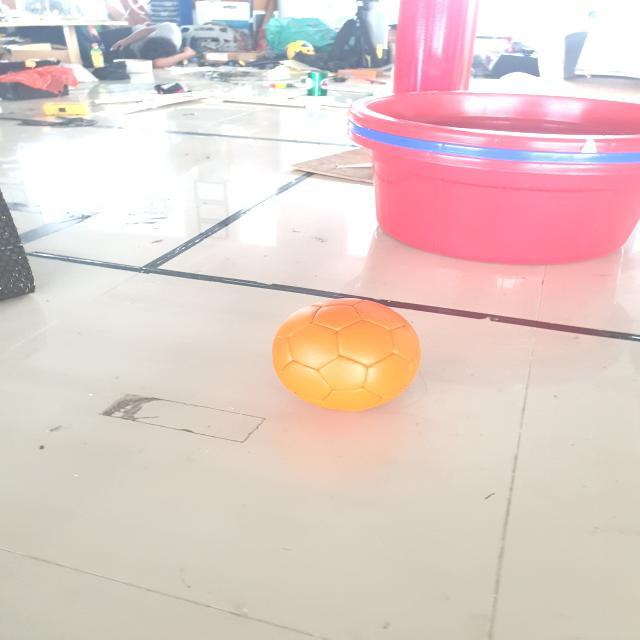bola: (264, 292, 426, 419)
